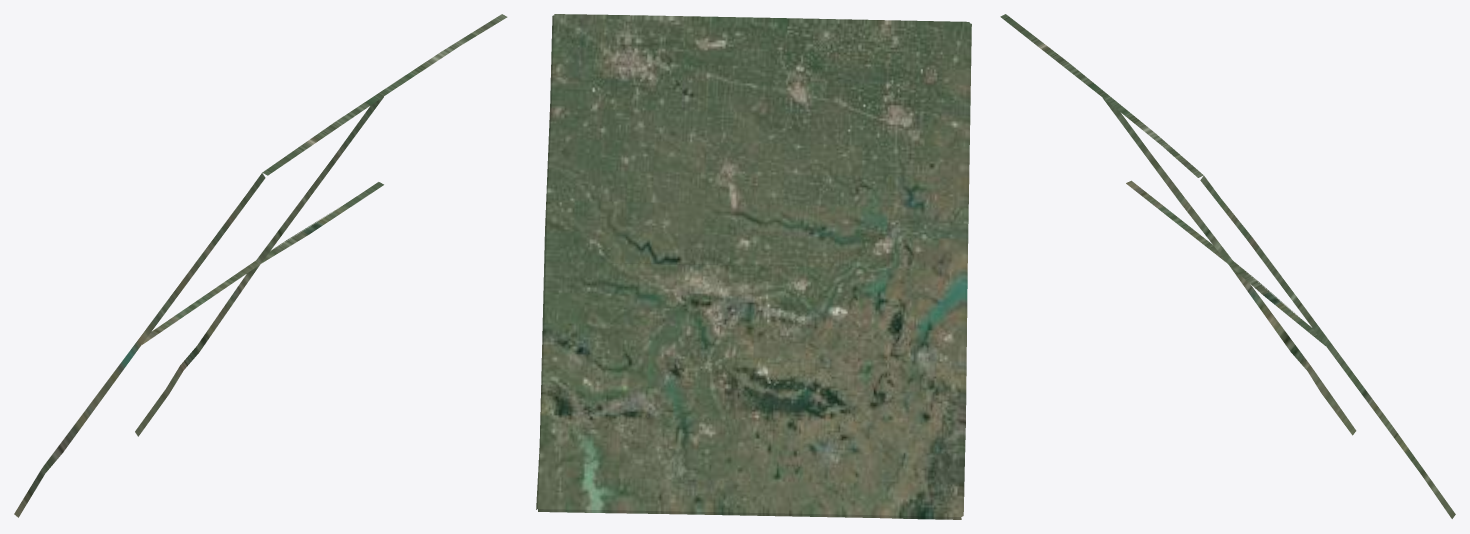
3 renders of one model, left to right at view 1: azimuth 30°, elevation 25°; view 2: azimuth 150°, elevation 25°; view 3: azimuth 270°, elevation 25°, orthographic. The views are drawn at different scales.
Size of the model in its own units: 157747 by 133324 by 138347.
1 material, 1 textured.
